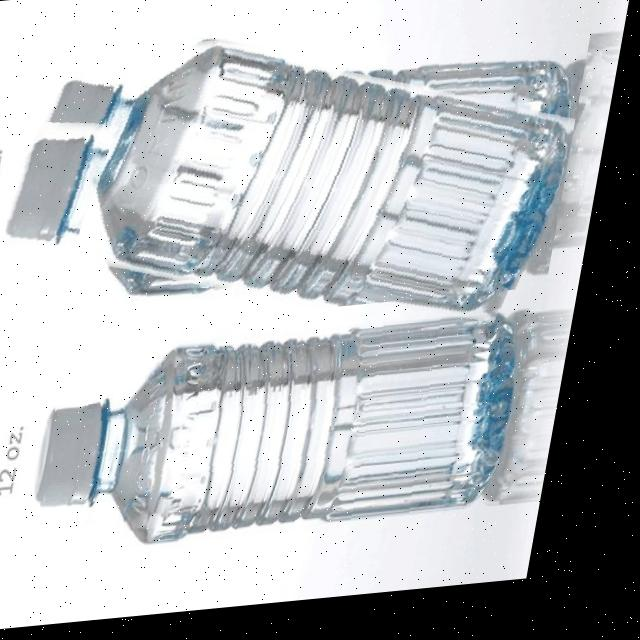plasticbottle: (0, 7, 600, 342), (50, 317, 548, 558)
plasticbottlecap: (10, 118, 113, 253)
